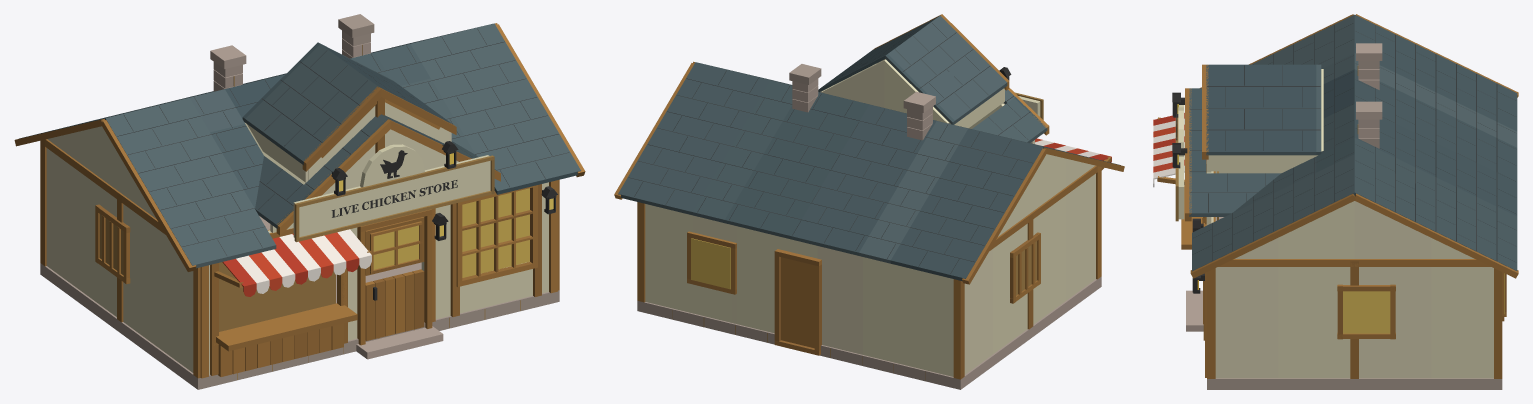
Rendered from ChickenStore_Mobile_A.fbx.
The picture shows the model from 3 angles, left to right: view 1: azimuth 30°, elevation 25°; view 2: azimuth 150°, elevation 25°; view 3: azimuth 270°, elevation 25°; orthographic projection. The views are drawn at different scales.
Visible parts, largest first — view 1: ChickenStore_Mobile_A_Body, ChickenStore_Mobile_A_DoorLeaf.001; view 2: ChickenStore_Mobile_A_Body; view 3: ChickenStore_Mobile_A_Body.
Part boxes in pixels (x1,y1,x2,y2): ChickenStore_Mobile_A_Body: (14,14,585,389); ChickenStore_Mobile_A_DoorLeaf.001: (365,217,424,340); ChickenStore_Mobile_A_Body: (614,14,1124,389); ChickenStore_Mobile_A_Body: (1153,14,1518,389).
Size of the model in its own units: 8.96 by 5.6 by 7.64.
